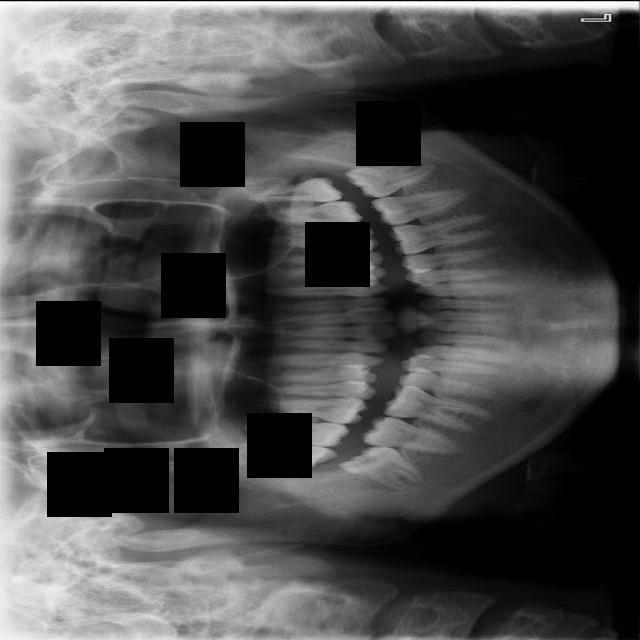3M ESPE Implant: (234, 437, 339, 471)
73: (582, 82, 592, 82)
BioHorizons Implant: (263, 199, 364, 229)
BioLife Implant: (247, 177, 344, 202)
Biomet 3i Implant: (344, 152, 439, 203)
Blue Sky Bio Implant: (370, 186, 475, 227)
Caries: (242, 417, 350, 448)
Implant: (360, 413, 468, 455)
Keystone Dental Implant: (337, 430, 430, 498)
